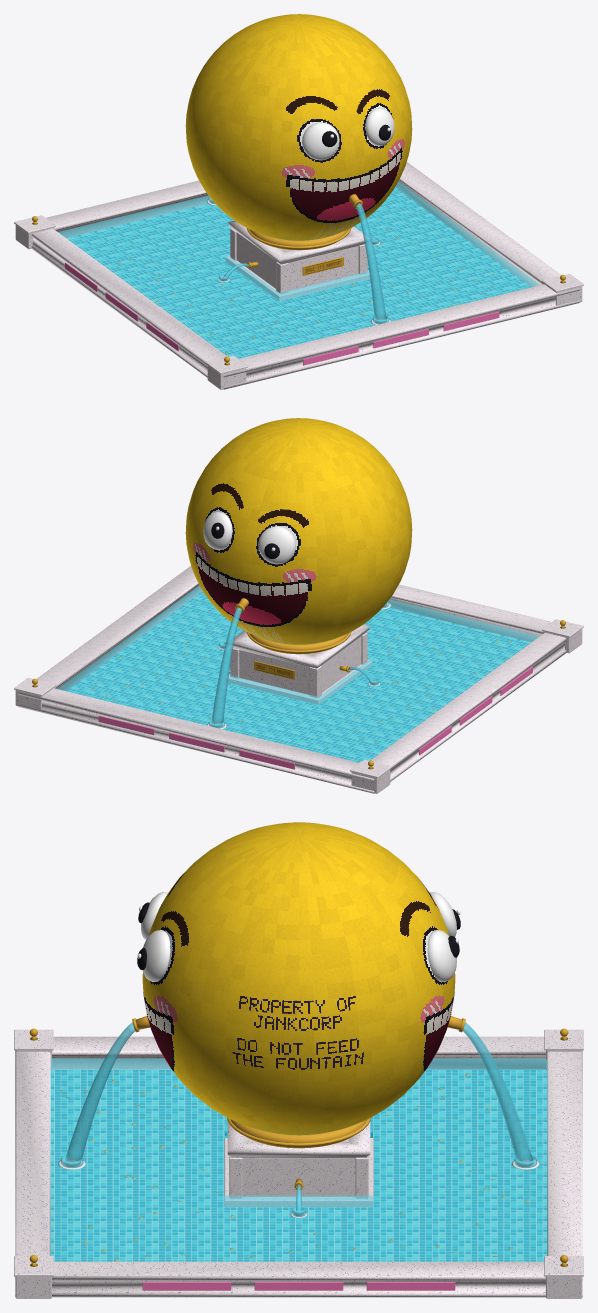
File: p_jb_fountain.glb
3 renders of one model, top to bottom at view 1: azimuth 30°, elevation 25°; view 2: azimuth 150°, elevation 25°; view 3: azimuth 270°, elevation 25°, orthographic. The views are drawn at different scales.
Visible parts, largest first — view 1: jb_fountain_lod0; view 2: jb_fountain_lod0; view 3: jb_fountain_lod0.
Part boxes in pixels (x1,y1,x2,y2): jb_fountain_lod0: (14,14,583,389); jb_fountain_lod0: (14,418,583,793); jb_fountain_lod0: (14,822,583,1298).
Size of what is drawn, in the model's own units: 22.26 by 14.4 by 21.86.
5 materials, 3 textured.
